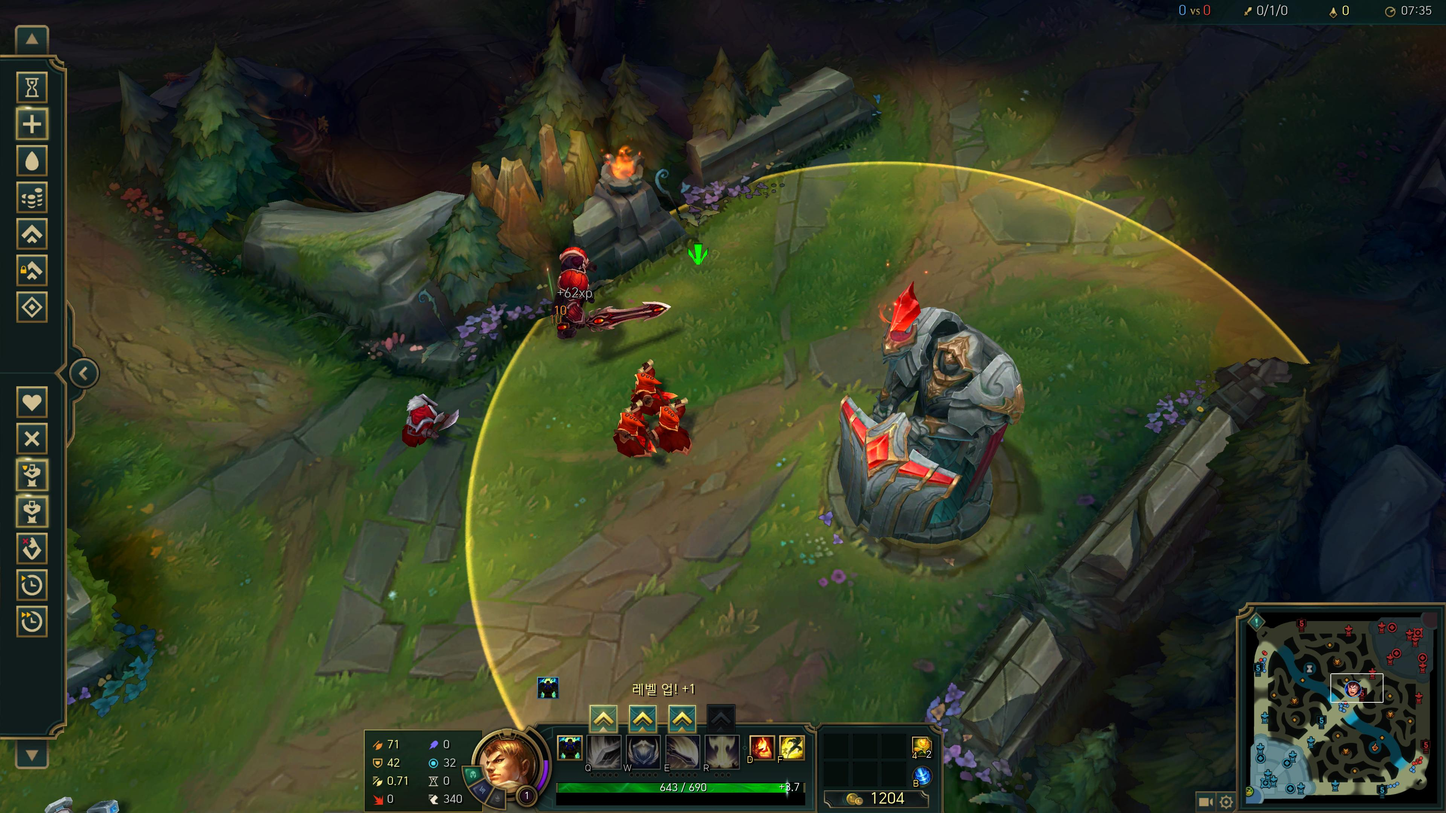enemy-caster-minion: (614, 403, 656, 458), (651, 402, 692, 455), (630, 358, 678, 403)
enemy-melee-minion: (401, 394, 462, 448)
enemy-tower: (827, 279, 1023, 576)
